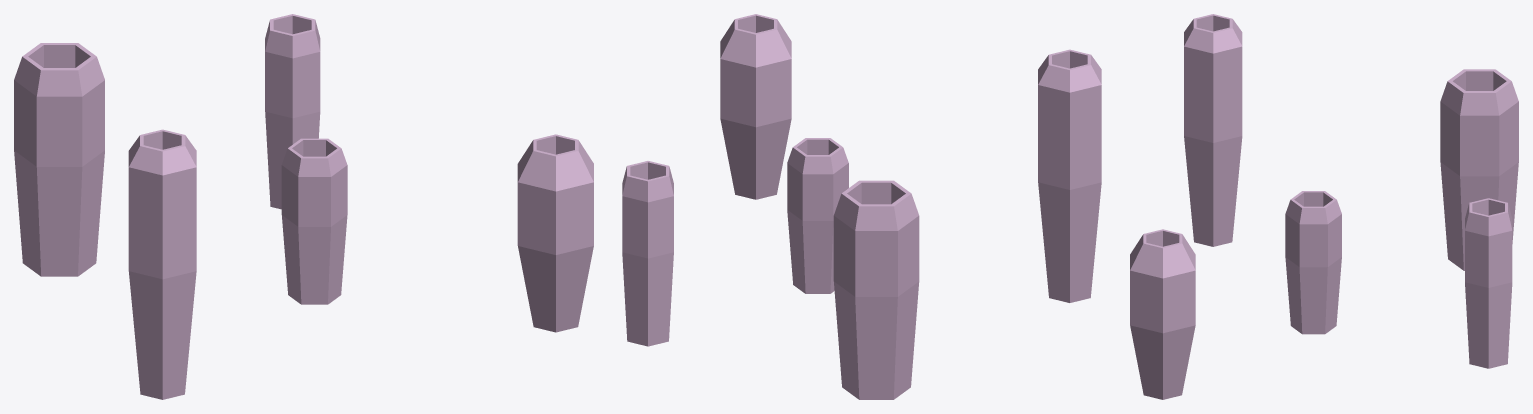
Rendered from Sponges.fbx.
3 views of the same model, side by side, from view 1: azimuth 30°, elevation 25°; view 2: azimuth 150°, elevation 25°; view 3: azimuth 270°, elevation 25° (orthographic). The views are drawn at different scales.
Parts seen in each view (by area): view 1: Sponges; view 2: Sponges; view 3: Sponges.
Part boxes in pixels (bbox=[...]): Sponges: bbox=[14, 14, 593, 399]; Sponges: bbox=[622, 14, 1101, 399]; Sponges: bbox=[1130, 14, 1518, 399].
Size of the model in its own units: 2.17 by 1.18 by 1.94.
